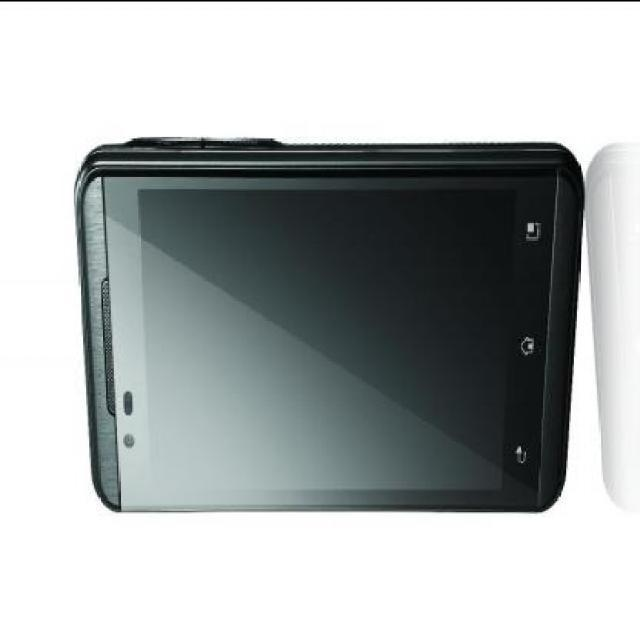phone: (78, 100, 592, 534)
